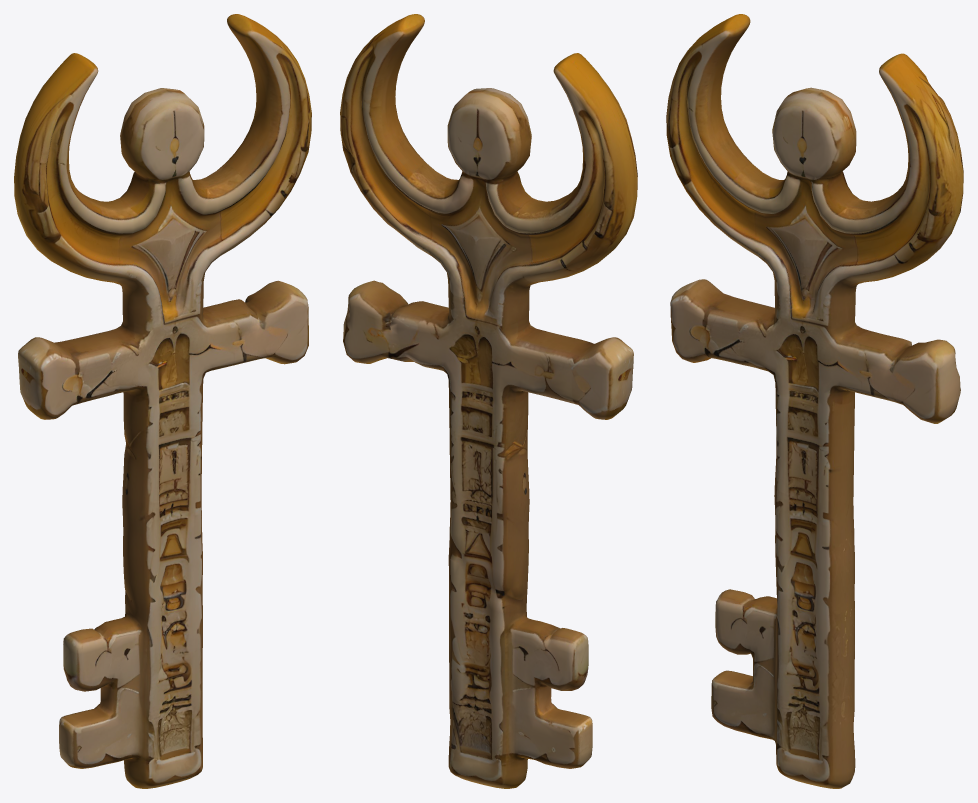
Rendered from ancient+metal+key+3d+model.obj.
3 renders of one model, left to right at view 1: azimuth 30°, elevation 25°; view 2: azimuth 150°, elevation 25°; view 3: azimuth 330°, elevation 25°, orthographic.
Parts seen in each view (by area): view 1: tripo_node_286595e2; view 2: tripo_node_286595e2; view 3: tripo_node_286595e2.
Part boxes in pixels (x1,y1,x2,y2): tripo_node_286595e2: (14,14,311,788); tripo_node_286595e2: (340,14,637,788); tripo_node_286595e2: (666,14,963,788).
Bounding box in the file's own units: 40.74 × 99.91 × 6.01.
Materials: 1 (1 with a texture image).
